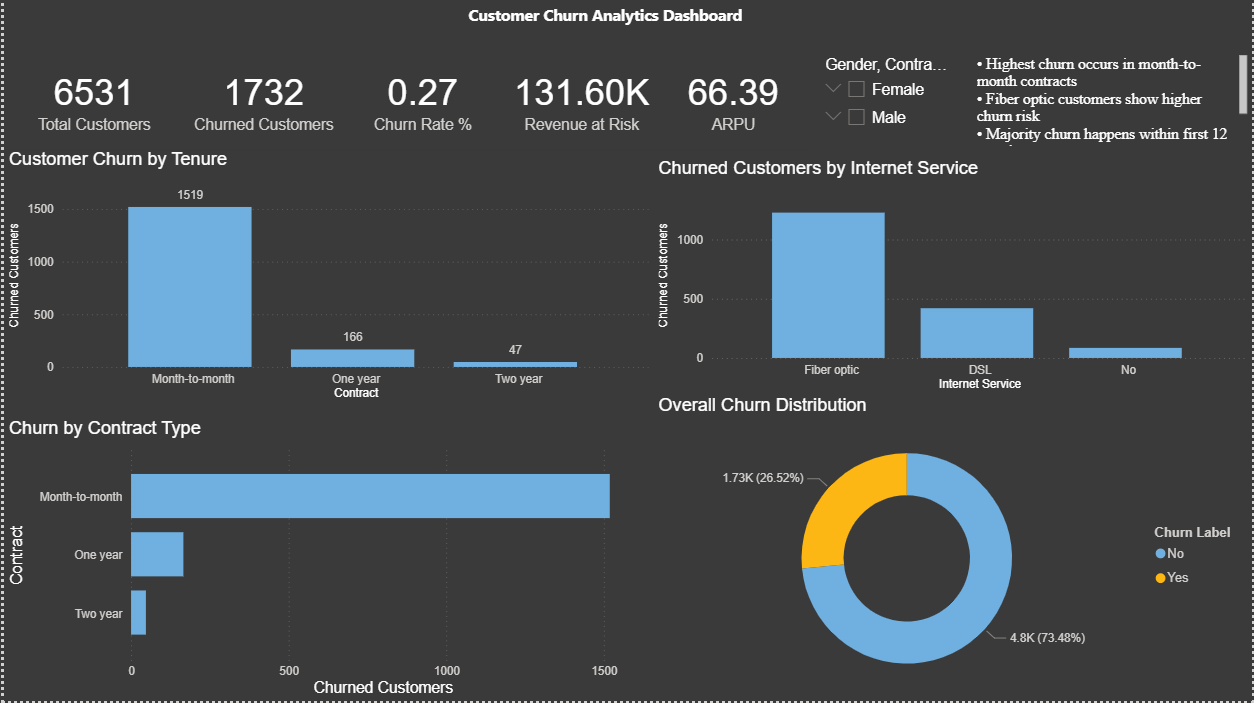

What the dashboard file says about the page in this screenshot:
{"tool":"powerbi","page":{"name":"Page 1","canvas":[1280,720],"ordinal":0},"visuals":[{"type":"clusteredColumnChart","title":"Customer Churn by Tenure","fields":{"Category":["fact_customers.Contract"],"Y":["fact_customers.Churned Customers"]},"box":[0,153.8,666.2,261.5],"z":0},{"type":"barChart","title":"Churn by Contract Type","fields":{"Category":["fact_customers.Contract"],"Y":["fact_customers.Churned Customers"]},"box":[0,429.2,666.2,290.8],"z":1000},{"type":"columnChart","fields":{"Category":["fact_customers.Internet Service"],"Y":["fact_customers.Churned Customers"]},"box":[666.2,163.1,613.8,243.1],"z":2000},{"type":"donutChart","title":"Overall Churn Distribution","fields":{"Category":["fact_customers.Churn Label"],"Y":["CountNonNull(fact_customers.CustomerID)"]},"box":[666.2,406.2,613.8,313.8],"z":3000},{"type":"slicer","fields":{"Values":["fact_customers.Gender","fact_customers.Contract","fact_customers.Tenure Group","fact_customers.Senior Citizen"]},"box":[829.2,52.3,163.1,103.1],"z":4000},{"type":"card","fields":{"Values":["KPI_Table.Total Customers"]},"box":[0,50.8,184.6,103.1],"z":5000},{"type":"card","fields":{"Values":["fact_customers.Churned Customers"]},"box":[184.6,50.8,163.1,103.1],"z":6000},{"type":"card","fields":{"Values":["fact_customers.Churn Rate %"]},"box":[347.7,50.8,163.1,103.1],"z":7000},{"type":"card","fields":{"Values":["fact_customers.Revenue at Risk"]},"box":[510.8,50.8,163.1,103.1],"z":8000},{"type":"card","fields":{"Values":["fact_customers.ARPU"]},"box":[666.2,50.8,163.1,103.1],"z":9000},{"type":"textbox","box":[992.3,52.3,287.7,103.1],"z":9001},{"type":"textbox","box":[453.8,0,332.3,50.8],"z":9002}]}

Visuals, with their boxes in screenshot pixels (x1, y1, x2, y2), scaled from the page's 1280x720 canvas onto the 1254x703 screenshot:
"Customer Churn by Tenure" clusteredColumnChart: 0:150:653:405
"Churn by Contract Type" barChart: 0:419:653:702
columnChart - fact_customers.Internet Service x fact_customers.Churned Customers: 653:159:1253:397
"Overall Churn Distribution" donutChart: 653:397:1253:702
slicer - fact_customers.Gender x fact_customers.Contract: 812:51:972:152
card - KPI_Table.Total Customers: 0:50:181:150
card - fact_customers.Churned Customers: 181:50:341:150
card - fact_customers.Churn Rate %: 341:50:500:150
card - fact_customers.Revenue at Risk: 500:50:660:150
card - fact_customers.ARPU: 653:50:812:150
textbox: 972:51:1253:152
textbox: 445:0:770:50
